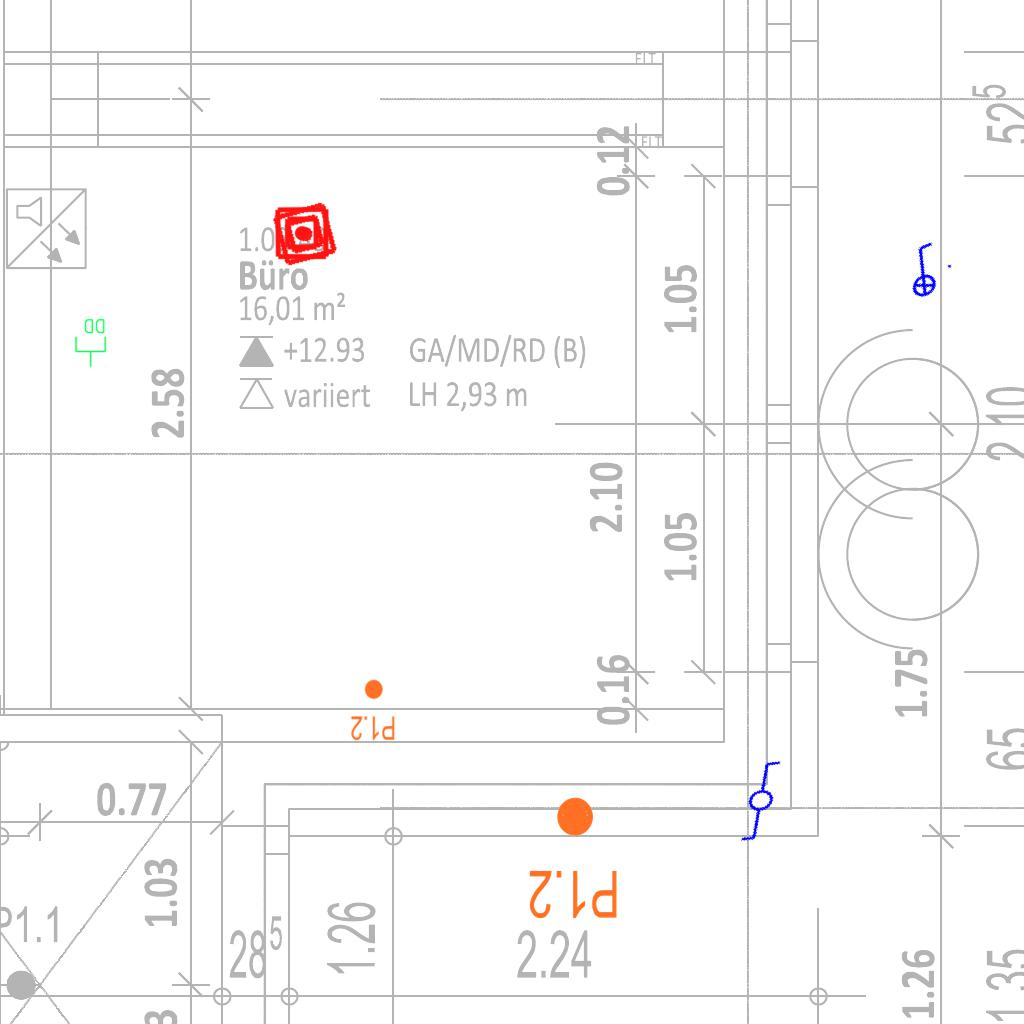Ausschalter_beleuchtet: (886, 233, 960, 307)
Datenanschluss_zweifach: (74, 317, 108, 368)
Downlight_LED_Einbauleuchten_Flur: (527, 794, 620, 922), (350, 678, 396, 742)
NAM-Nichtautomatischer_Melder: (270, 199, 340, 269), (274, 205, 330, 261)
Wechselschalter: (715, 752, 815, 848)
